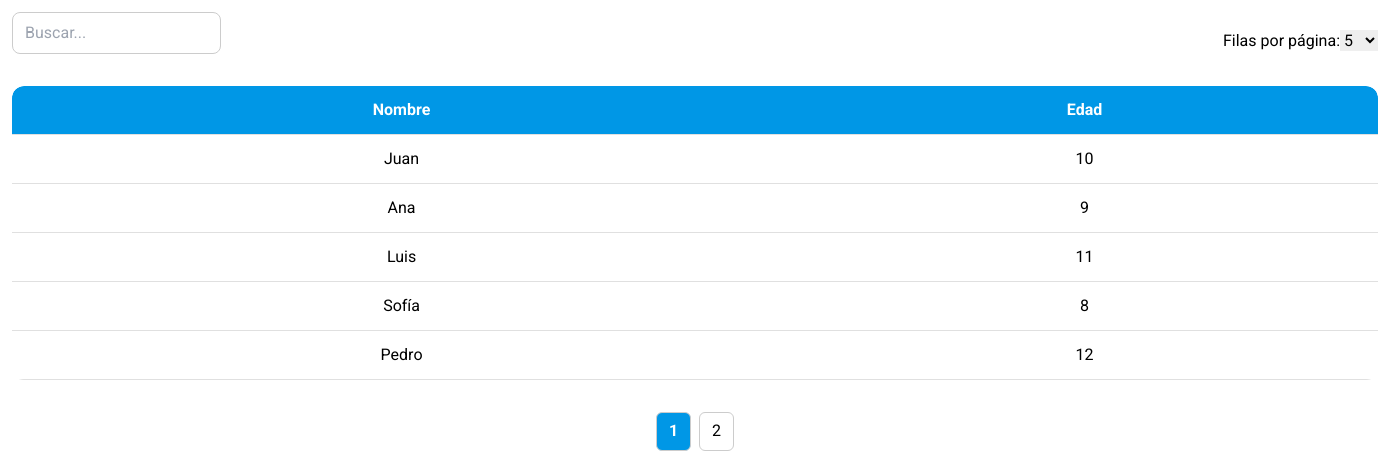
Scenario: DataTable component › cambia filas por página
Select "10" in the dropdown at (1359, 40), box [1340,30,1378,51]
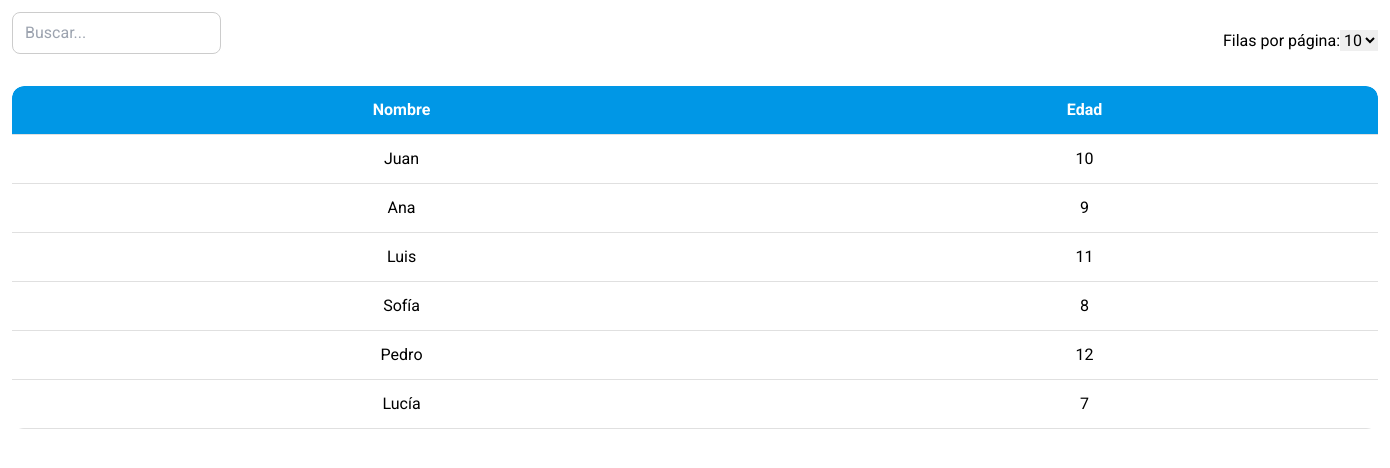
Now the number of rows is 7
